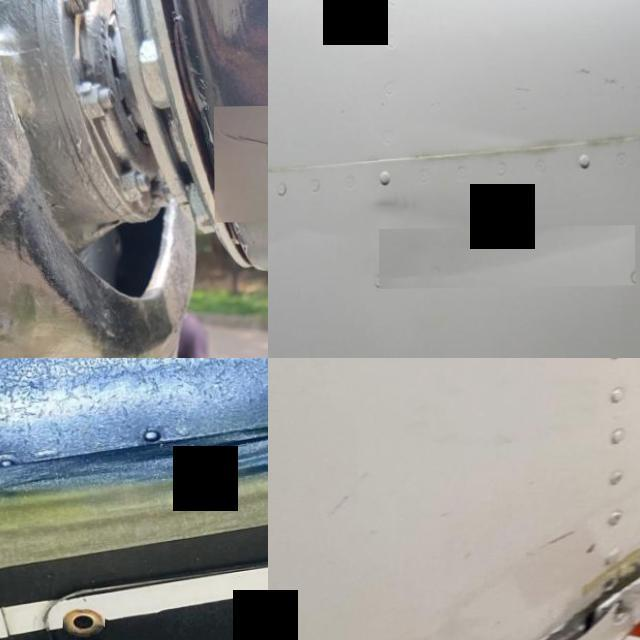Crack: (516, 603, 610, 640)
Dent: (379, 227, 634, 290), (268, 218, 335, 255)
Missing_Fastener: (62, 608, 104, 639)
